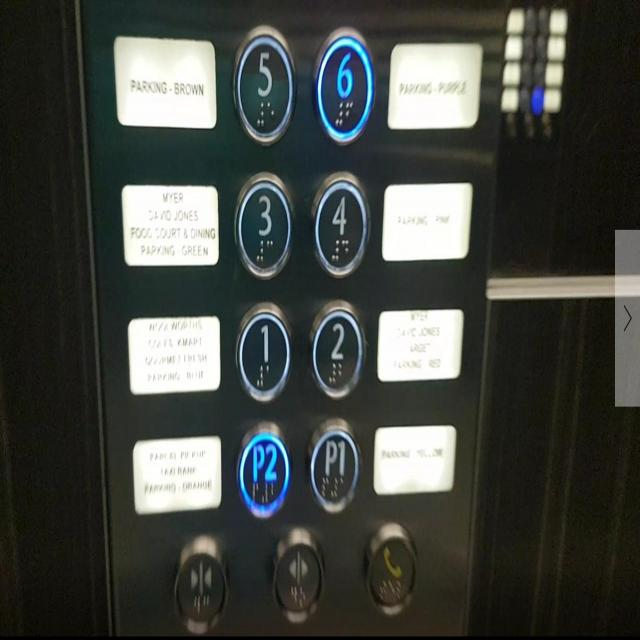1: (234, 298, 294, 406)
2: (307, 298, 367, 402)
3: (230, 167, 295, 281)
4: (307, 167, 373, 281)
5: (230, 20, 299, 148)
6: (310, 21, 378, 146)
P1: (307, 415, 363, 518)
P2: (234, 415, 294, 520)
call: (360, 518, 420, 620)
close: (169, 527, 229, 639)
open: (268, 523, 326, 625)
